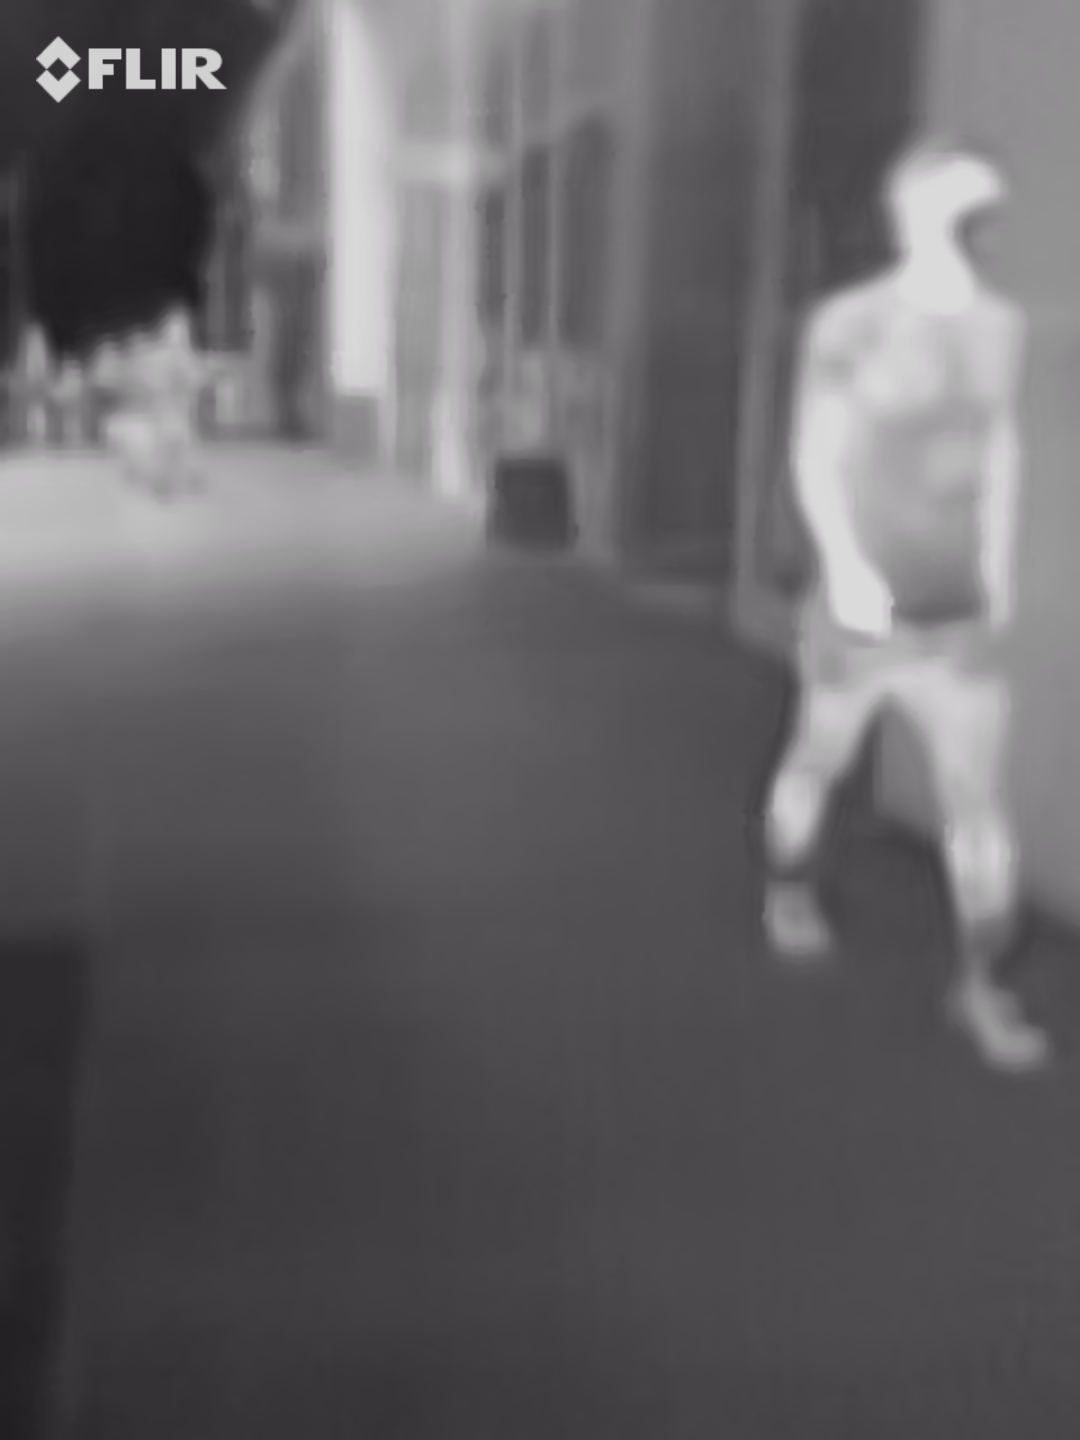head: (882, 136, 1004, 275)
